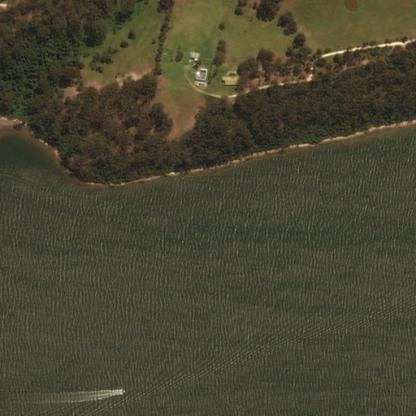ship: (118, 388, 123, 393)
